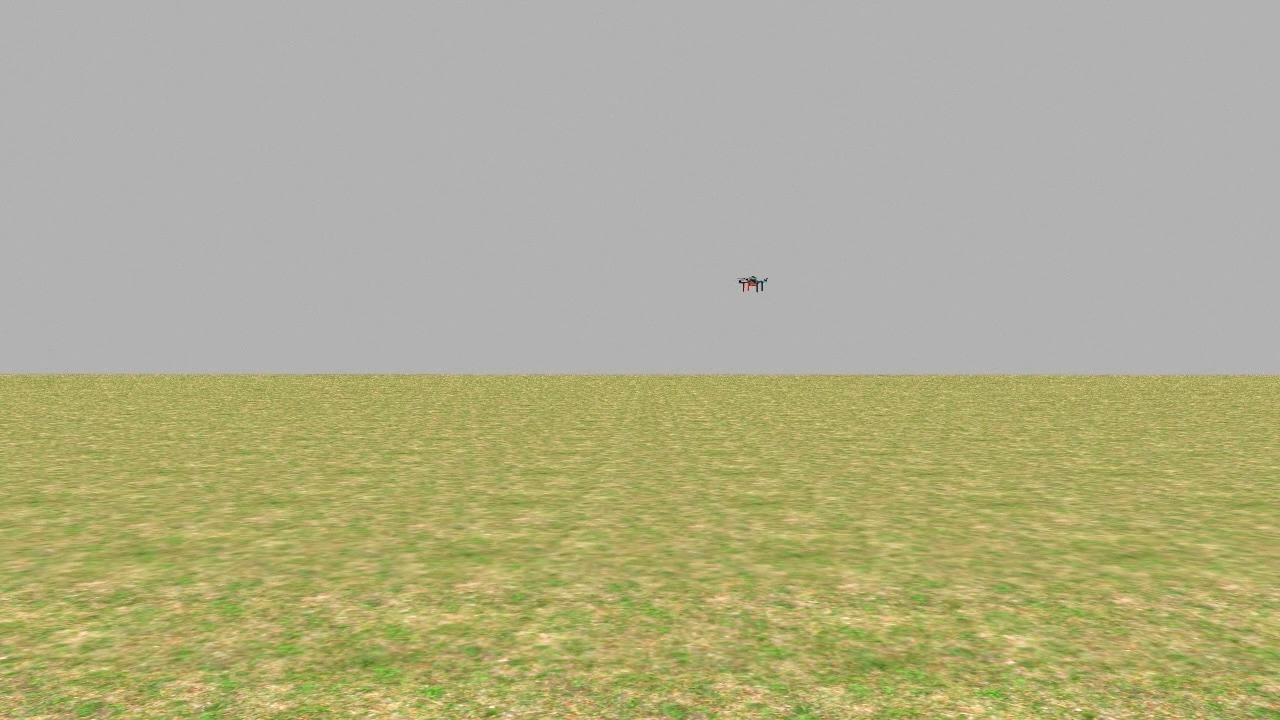UAV: (730, 264, 773, 302)
